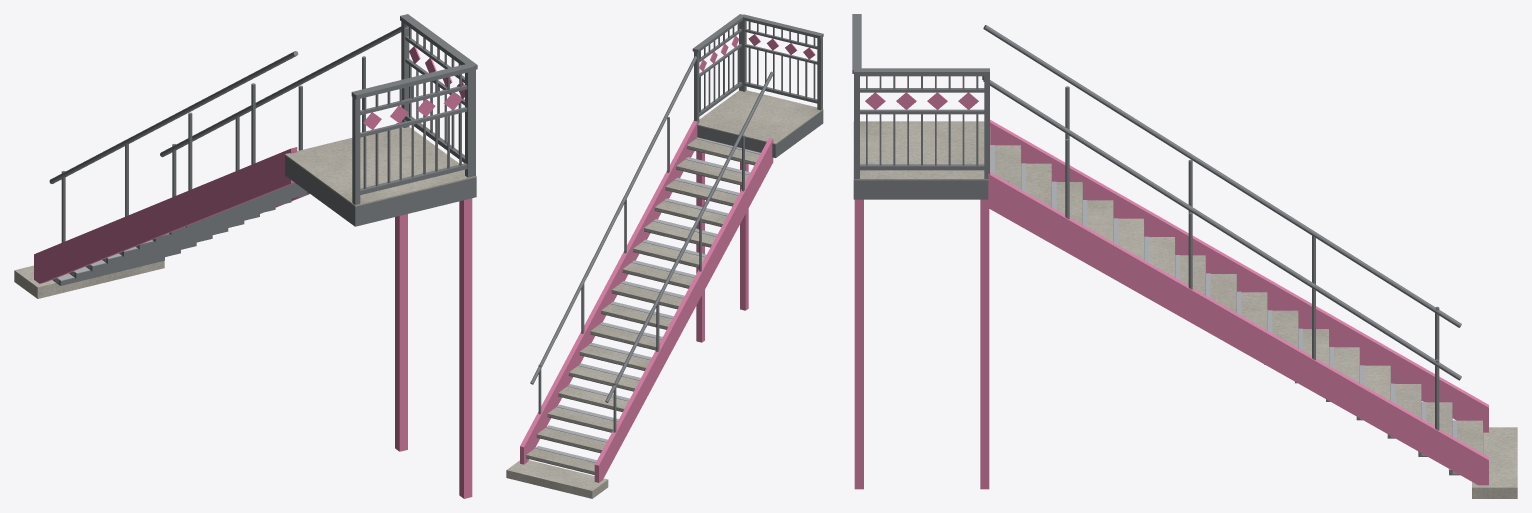
File: stair_ext.glb
3 views of the same model, side by side, from view 1: azimuth 30°, elevation 25°; view 2: azimuth 150°, elevation 25°; view 3: azimuth 270°, elevation 25° (orthographic). The views are drawn at different scales.
Visible parts, largest first — view 1: stair_ext_steel_d, stair_ext_accent, stair_ext_conc_s, stair_ext_concrete; view 2: stair_ext_conc_s, stair_ext_steel_d, stair_ext_accent, stair_ext_steel, stair_ext_concrete; view 3: stair_ext_accent, stair_ext_conc_s, stair_ext_steel_d, stair_ext_concrete, stair_ext_steel.
Part boxes in pixels (x1,y1,x2,y2): stair_ext_steel_d: [49, 14, 477, 285]; stair_ext_accent: [34, 46, 472, 498]; stair_ext_conc_s: [53, 127, 476, 283]; stair_ext_concrete: [14, 261, 164, 298]; stair_ext_conc_s: [526, 90, 823, 474]; stair_ext_steel_d: [526, 14, 823, 474]; stair_ext_accent: [520, 34, 815, 482]; stair_ext_steel: [535, 137, 760, 462]; stair_ext_concrete: [506, 460, 608, 498]; stair_ext_accent: [854, 92, 1488, 489]; stair_ext_conc_s: [853, 121, 1482, 474]; stair_ext_steel_d: [852, 14, 1483, 475]; stair_ext_concrete: [1472, 427, 1517, 498]; stair_ext_steel: [990, 145, 1456, 469].
Size of the model in its own units: 1.25 by 4.11 by 5.83.
5 materials, 2 textured.
